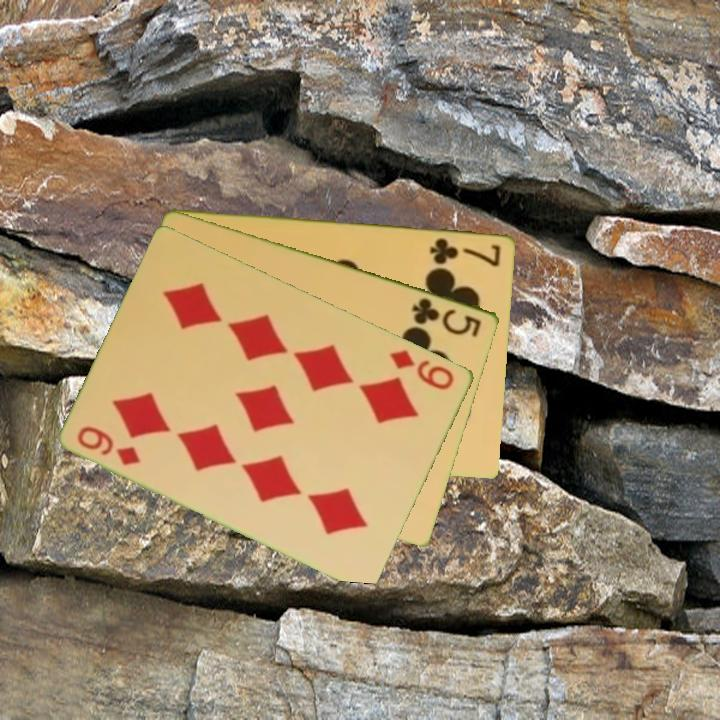5c: (409, 293, 485, 340)
7c: (427, 234, 504, 269)
9d: (386, 346, 458, 393), (74, 422, 144, 468)
